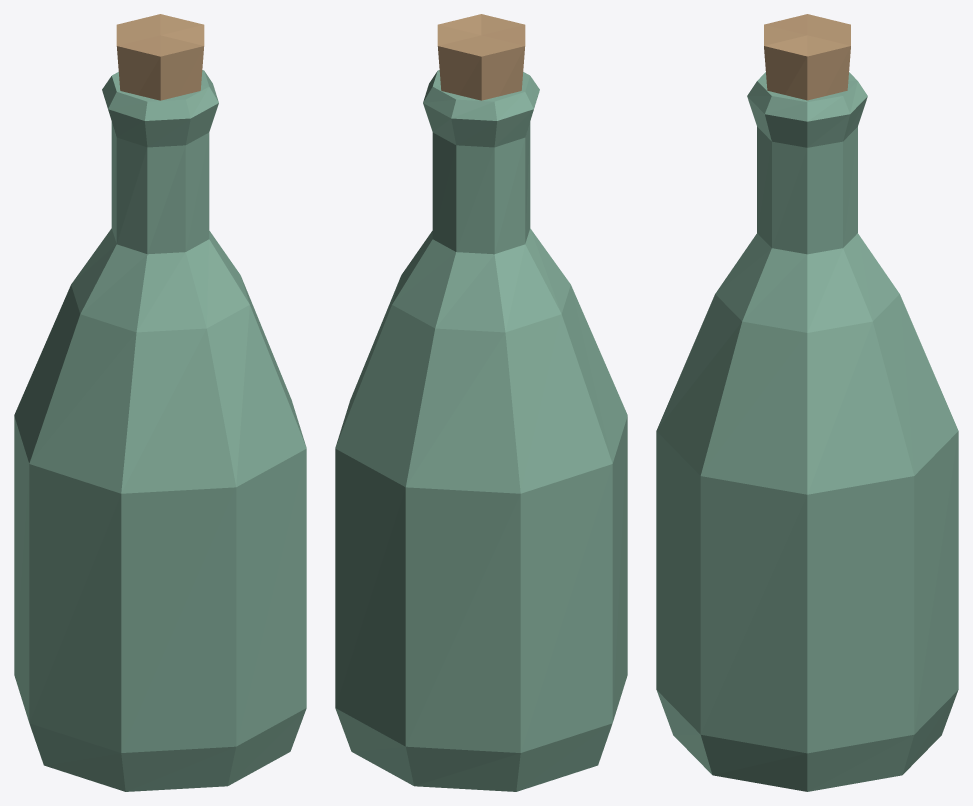
File: bottle_green.glb
3 renders of one model, left to right at view 1: azimuth 30°, elevation 25°; view 2: azimuth 150°, elevation 25°; view 3: azimuth 270°, elevation 25°, orthographic.
Parts seen in each view (by area): view 1: bottle_green; view 2: bottle_green; view 3: bottle_green.
Part boxes in pixels (left/top/right/bottom): bottle_green: left=14, top=14, right=306, bottom=791; bottle_green: left=335, top=14, right=627, bottom=791; bottle_green: left=656, top=14, right=958, bottom=791.
Size of the model in its own units: 0.18 by 0.46 by 0.18.
